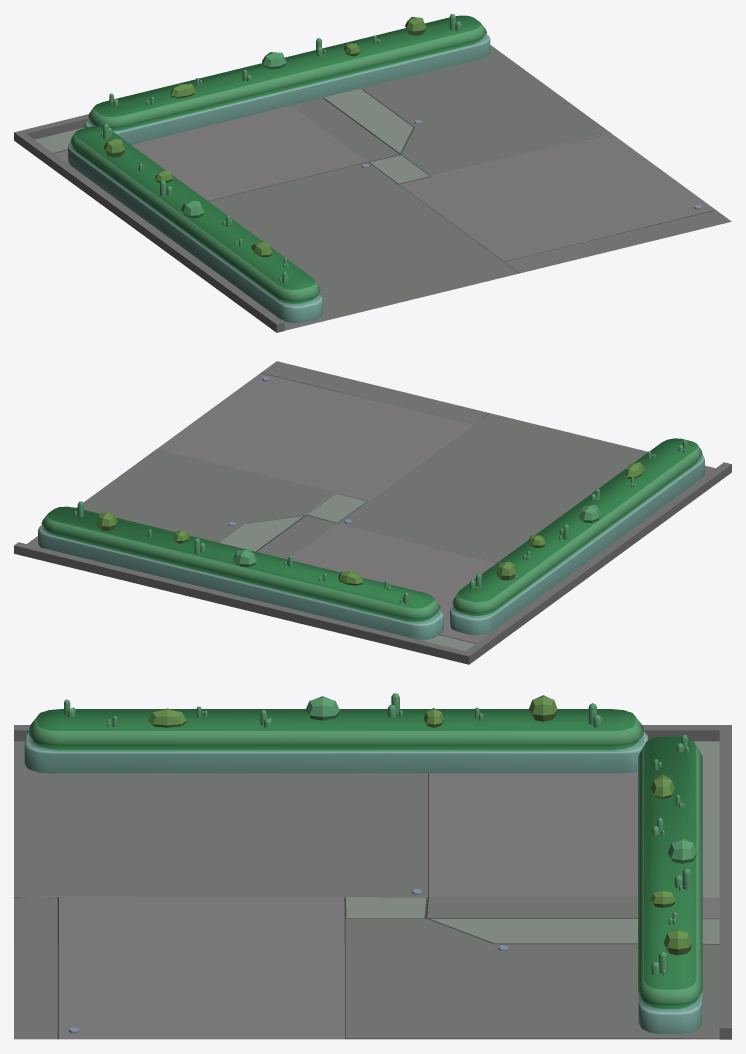
File: OpenCorner_A.gltf
3 views of the same model, one above another, from view 1: azimuth 30°, elevation 25°; view 2: azimuth 150°, elevation 25°; view 3: azimuth 270°, elevation 25° (orthographic). The views are drawn at different scales.
Parts seen in each view (by area): view 1: Scifi_Panel_04_Plaza014_group4.011_Scifi_Panel_04_Plaza014_.; view 2: Scifi_Panel_04_Plaza014_group4.011_Scifi_Panel_04_Plaza014_.; view 3: Scifi_Panel_04_Plaza014_group4.011_Scifi_Panel_04_Plaza014_..
Boxes of the visible parts, <box> form: Scifi_Panel_04_Plaza014_group4.011_Scifi_Panel_04_Plaza014_.: <box>14,14,731,332</box>; Scifi_Panel_04_Plaza014_group4.011_Scifi_Panel_04_Plaza014_.: <box>14,361,731,664</box>; Scifi_Panel_04_Plaza014_group4.011_Scifi_Panel_04_Plaza014_.: <box>14,693,731,1039</box>.
Size of what is drawn, in the model's own units: 10 by 0.9439 by 10.
Materials: 1 (1 with a texture image).
